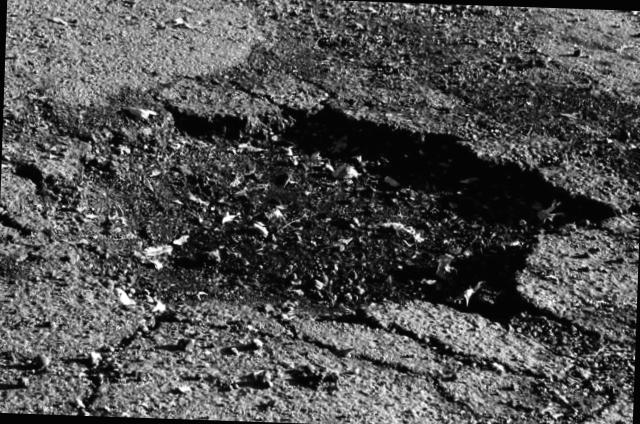Pothole: (0, 96, 631, 372)
